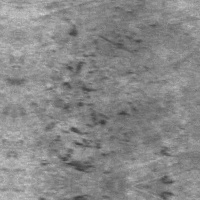rolled-in_scale: (39, 22, 132, 180)
